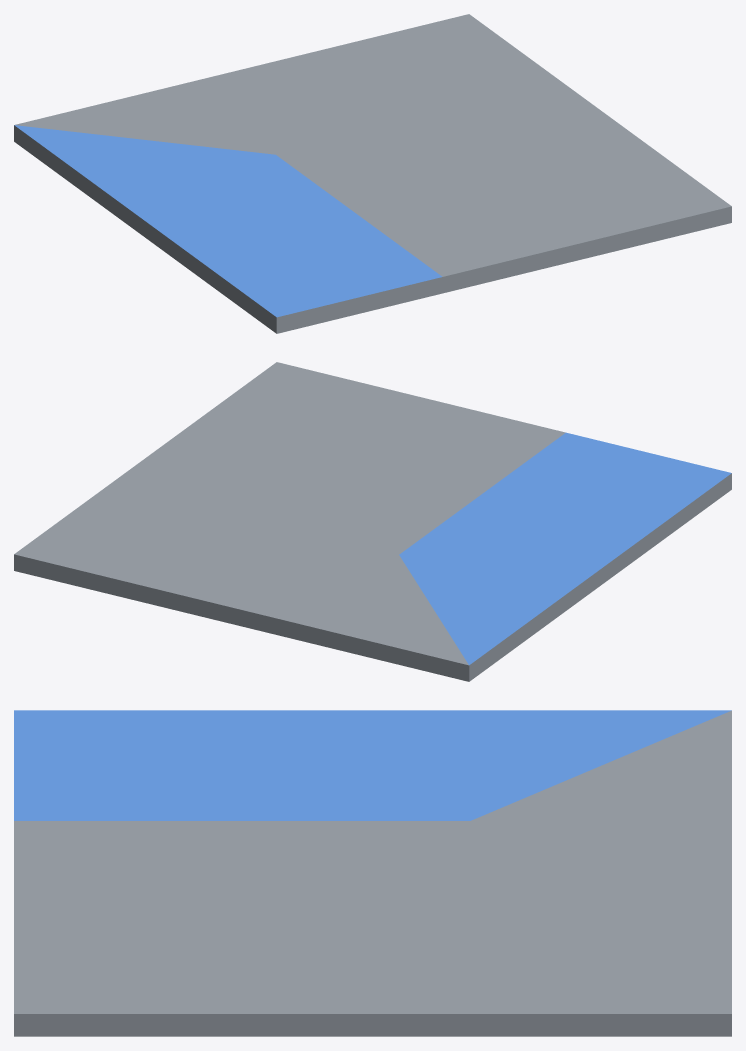
File: veyran_fortified_bunker_foundation.glb
3 renders of one model, top to bottom at view 1: azimuth 30°, elevation 25°; view 2: azimuth 150°, elevation 25°; view 3: azimuth 270°, elevation 25°, orthographic. The views are drawn at different scales.
Visible parts, largest first — view 1: hull; view 2: hull; view 3: hull.
Boxes of the visible parts, box(x1,y1,x2,y2) form: hull: box(14, 14, 731, 333); hull: box(14, 362, 731, 681); hull: box(14, 710, 731, 1036).
Bounding box in the file's own units: 7.2 × 0.25 × 7.2.
